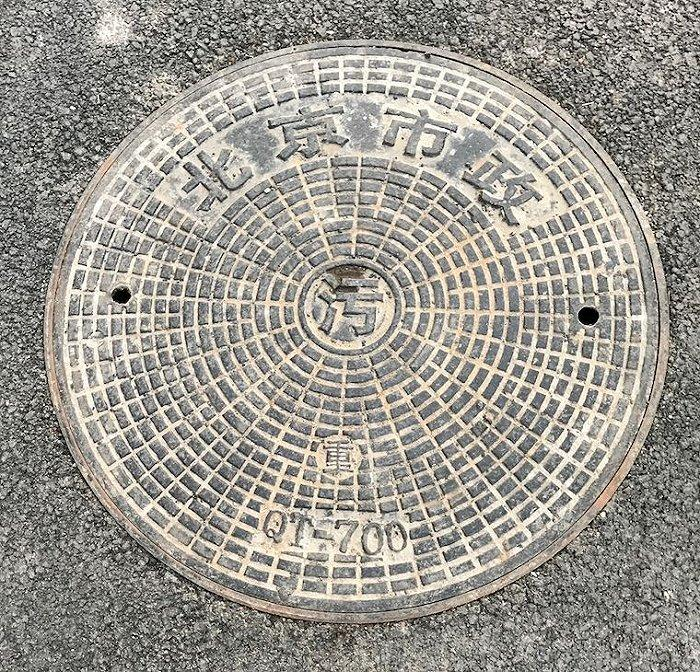wellcover: (33, 38, 659, 635)
